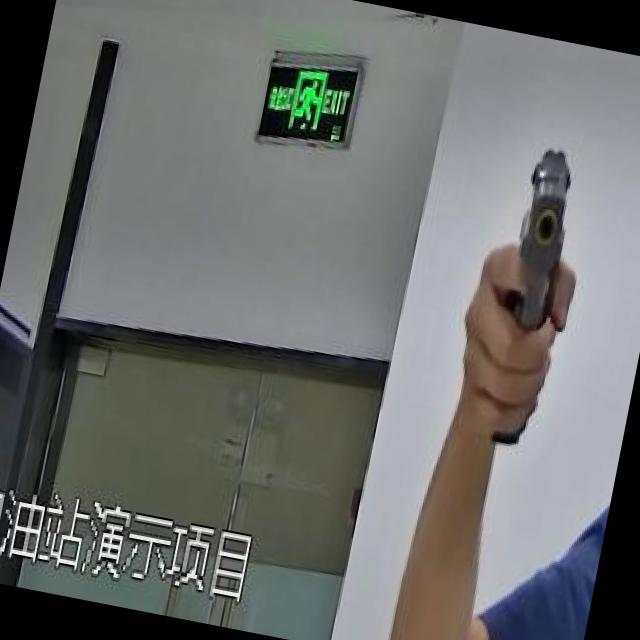Guns: (442, 101, 636, 476)
